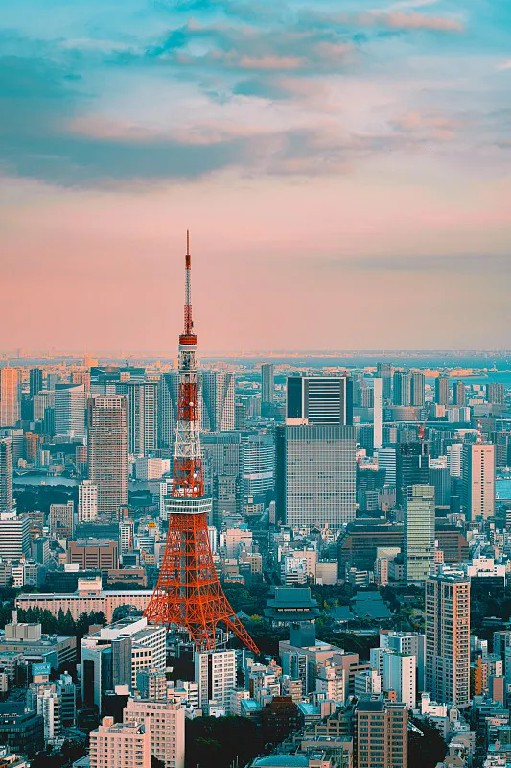Tokyo: (148, 227, 259, 659)
